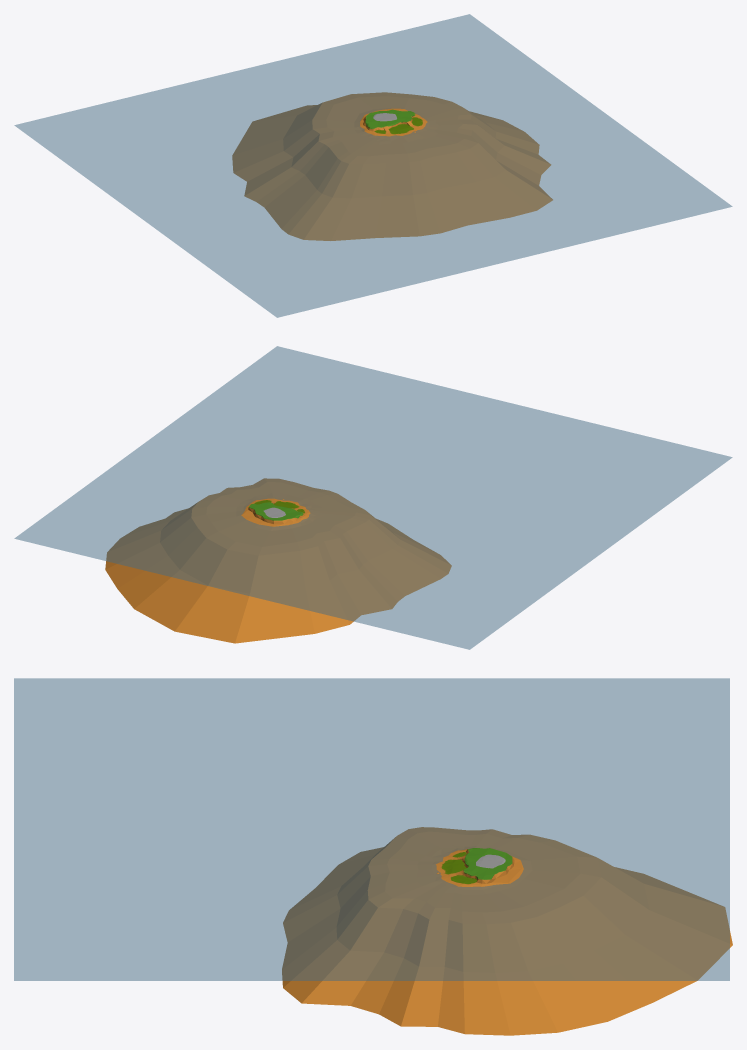
Rendered from haidao01.FBX.
The picture shows the model from 3 angles, top to bottom: view 1: azimuth 30°, elevation 25°; view 2: azimuth 150°, elevation 25°; view 3: azimuth 270°, elevation 25°; orthographic projection. The views are drawn at different scales.
Visible parts, largest first — view 1: shuimian, haidao01, haidao02; view 2: shuimian, haidao01, haidao02; view 3: shuimian, haidao01, haidao02.
Part boxes in pixels (<box>): shuimian: <box>14,14,732,317</box>; haidao01: <box>232,92,552,240</box>; haidao02: <box>363,109,416,131</box>; shuimian: <box>14,346,732,649</box>; haidao01: <box>105,478,451,643</box>; haidao02: <box>248,502,304,524</box>; shuimian: <box>14,678,729,980</box>; haidao01: <box>282,827,732,1035</box>; haidao02: <box>462,848,514,883</box>.
Bounding box in the file's own units: 43669 × 5165 × 43846.
